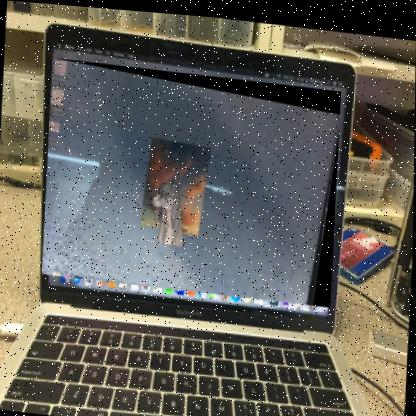fade: (43, 56, 342, 303)
